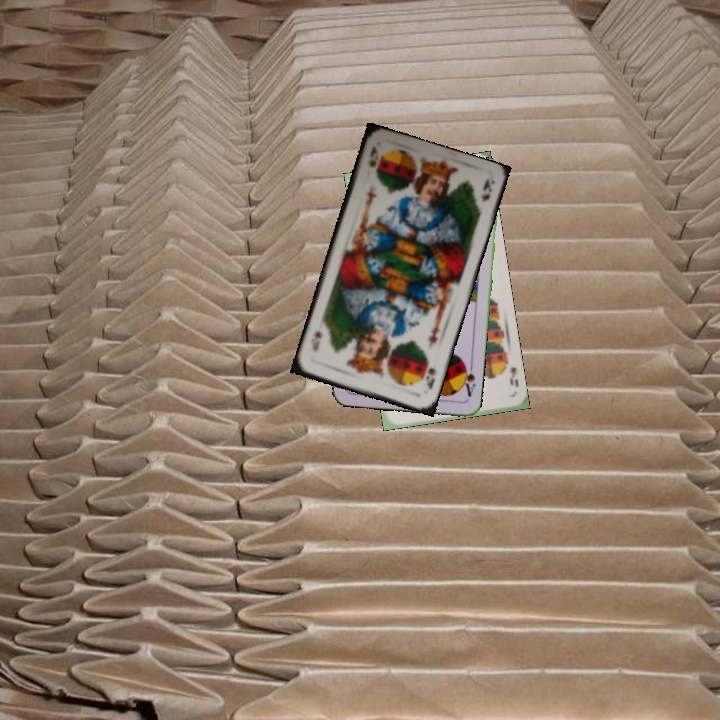S9: (498, 354, 521, 390)
SA: (458, 360, 478, 399)
SK: (364, 142, 381, 170), (422, 363, 438, 392)
